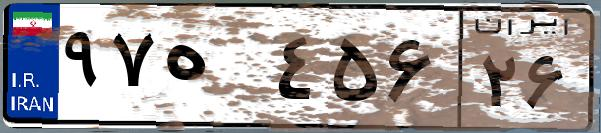2: (475, 38, 525, 113)
4: (270, 28, 330, 110)
5: (330, 28, 385, 110)
6: (385, 28, 445, 110), (525, 38, 570, 115)
7: (110, 28, 158, 98)
9: (57, 26, 110, 100)
ه: (158, 20, 270, 120)
